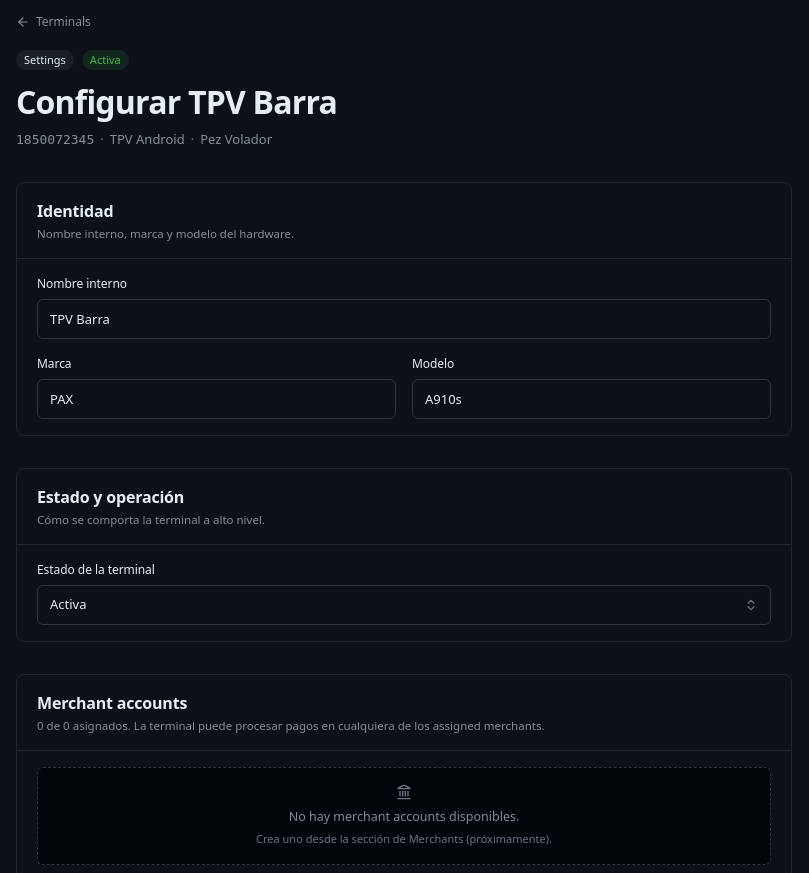
Test: TerminalSettingsPage › permite descartar cambios en la sección de identidad
Expected: the heading "Configurar TPV Barra" is shown, [16,80,337,123]
In the field with placeholder "TPV Barra": {"x": 404, "y": 319} [37,299,771,339], type "TPV Cambiado"
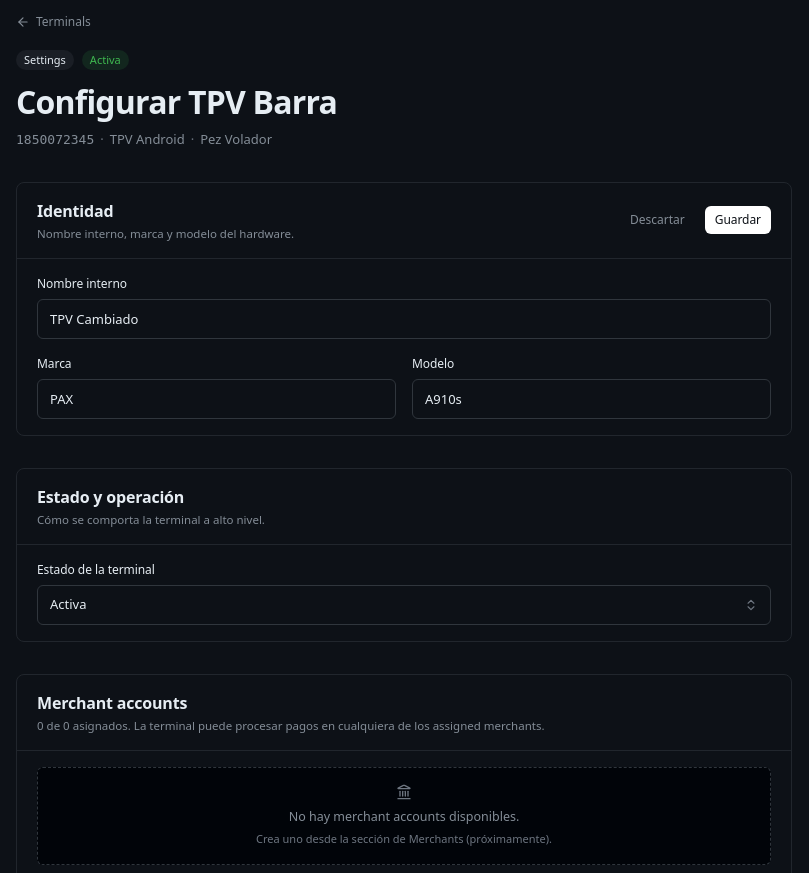
Note: "Descartar" debería aparecer junto con "Guardar"
Click the button "Descartar": {"x": 657, "y": 220} [618,204,697,236]
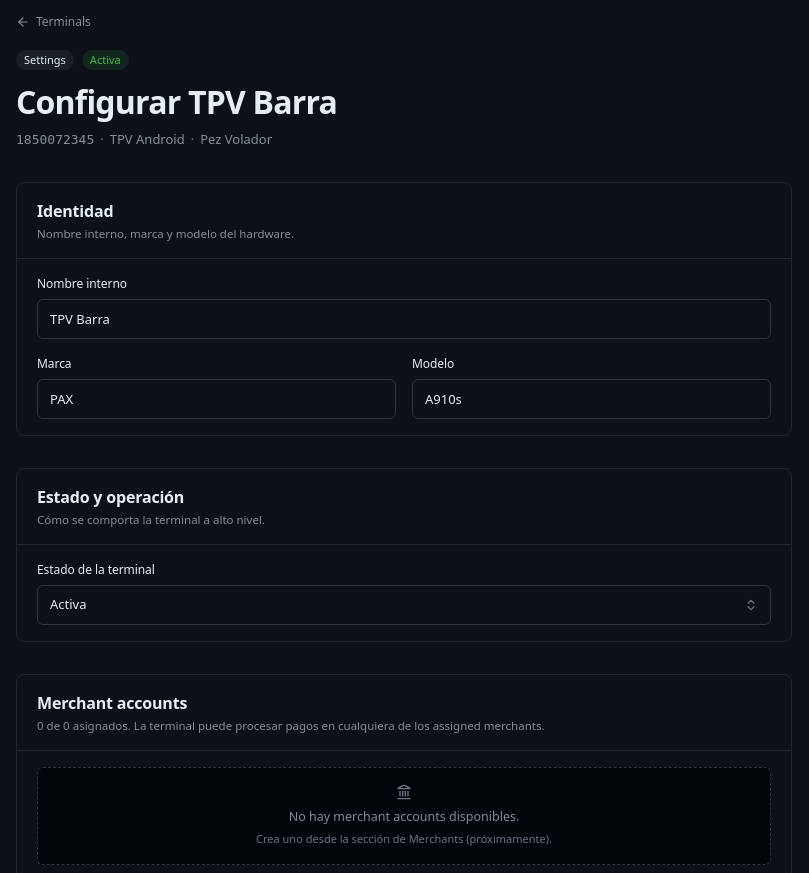
Expected: the field with placeholder "TPV Barra" holds "TPV Barra", [37,299,771,339]
